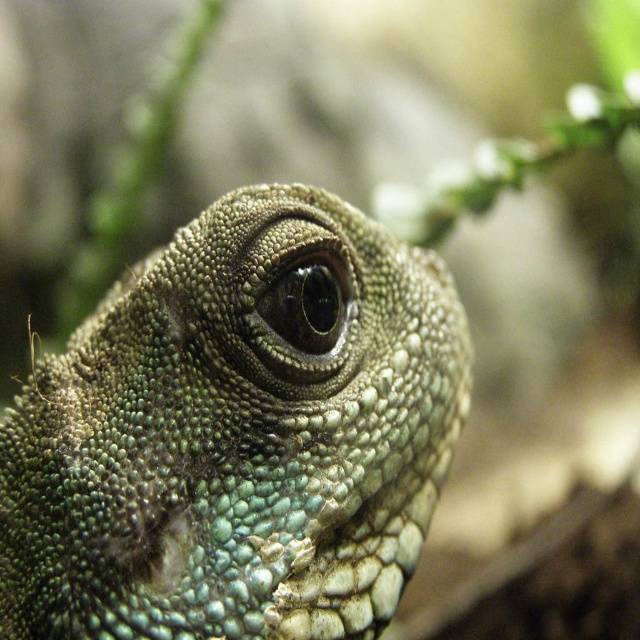Lizard: (0, 174, 478, 639)
